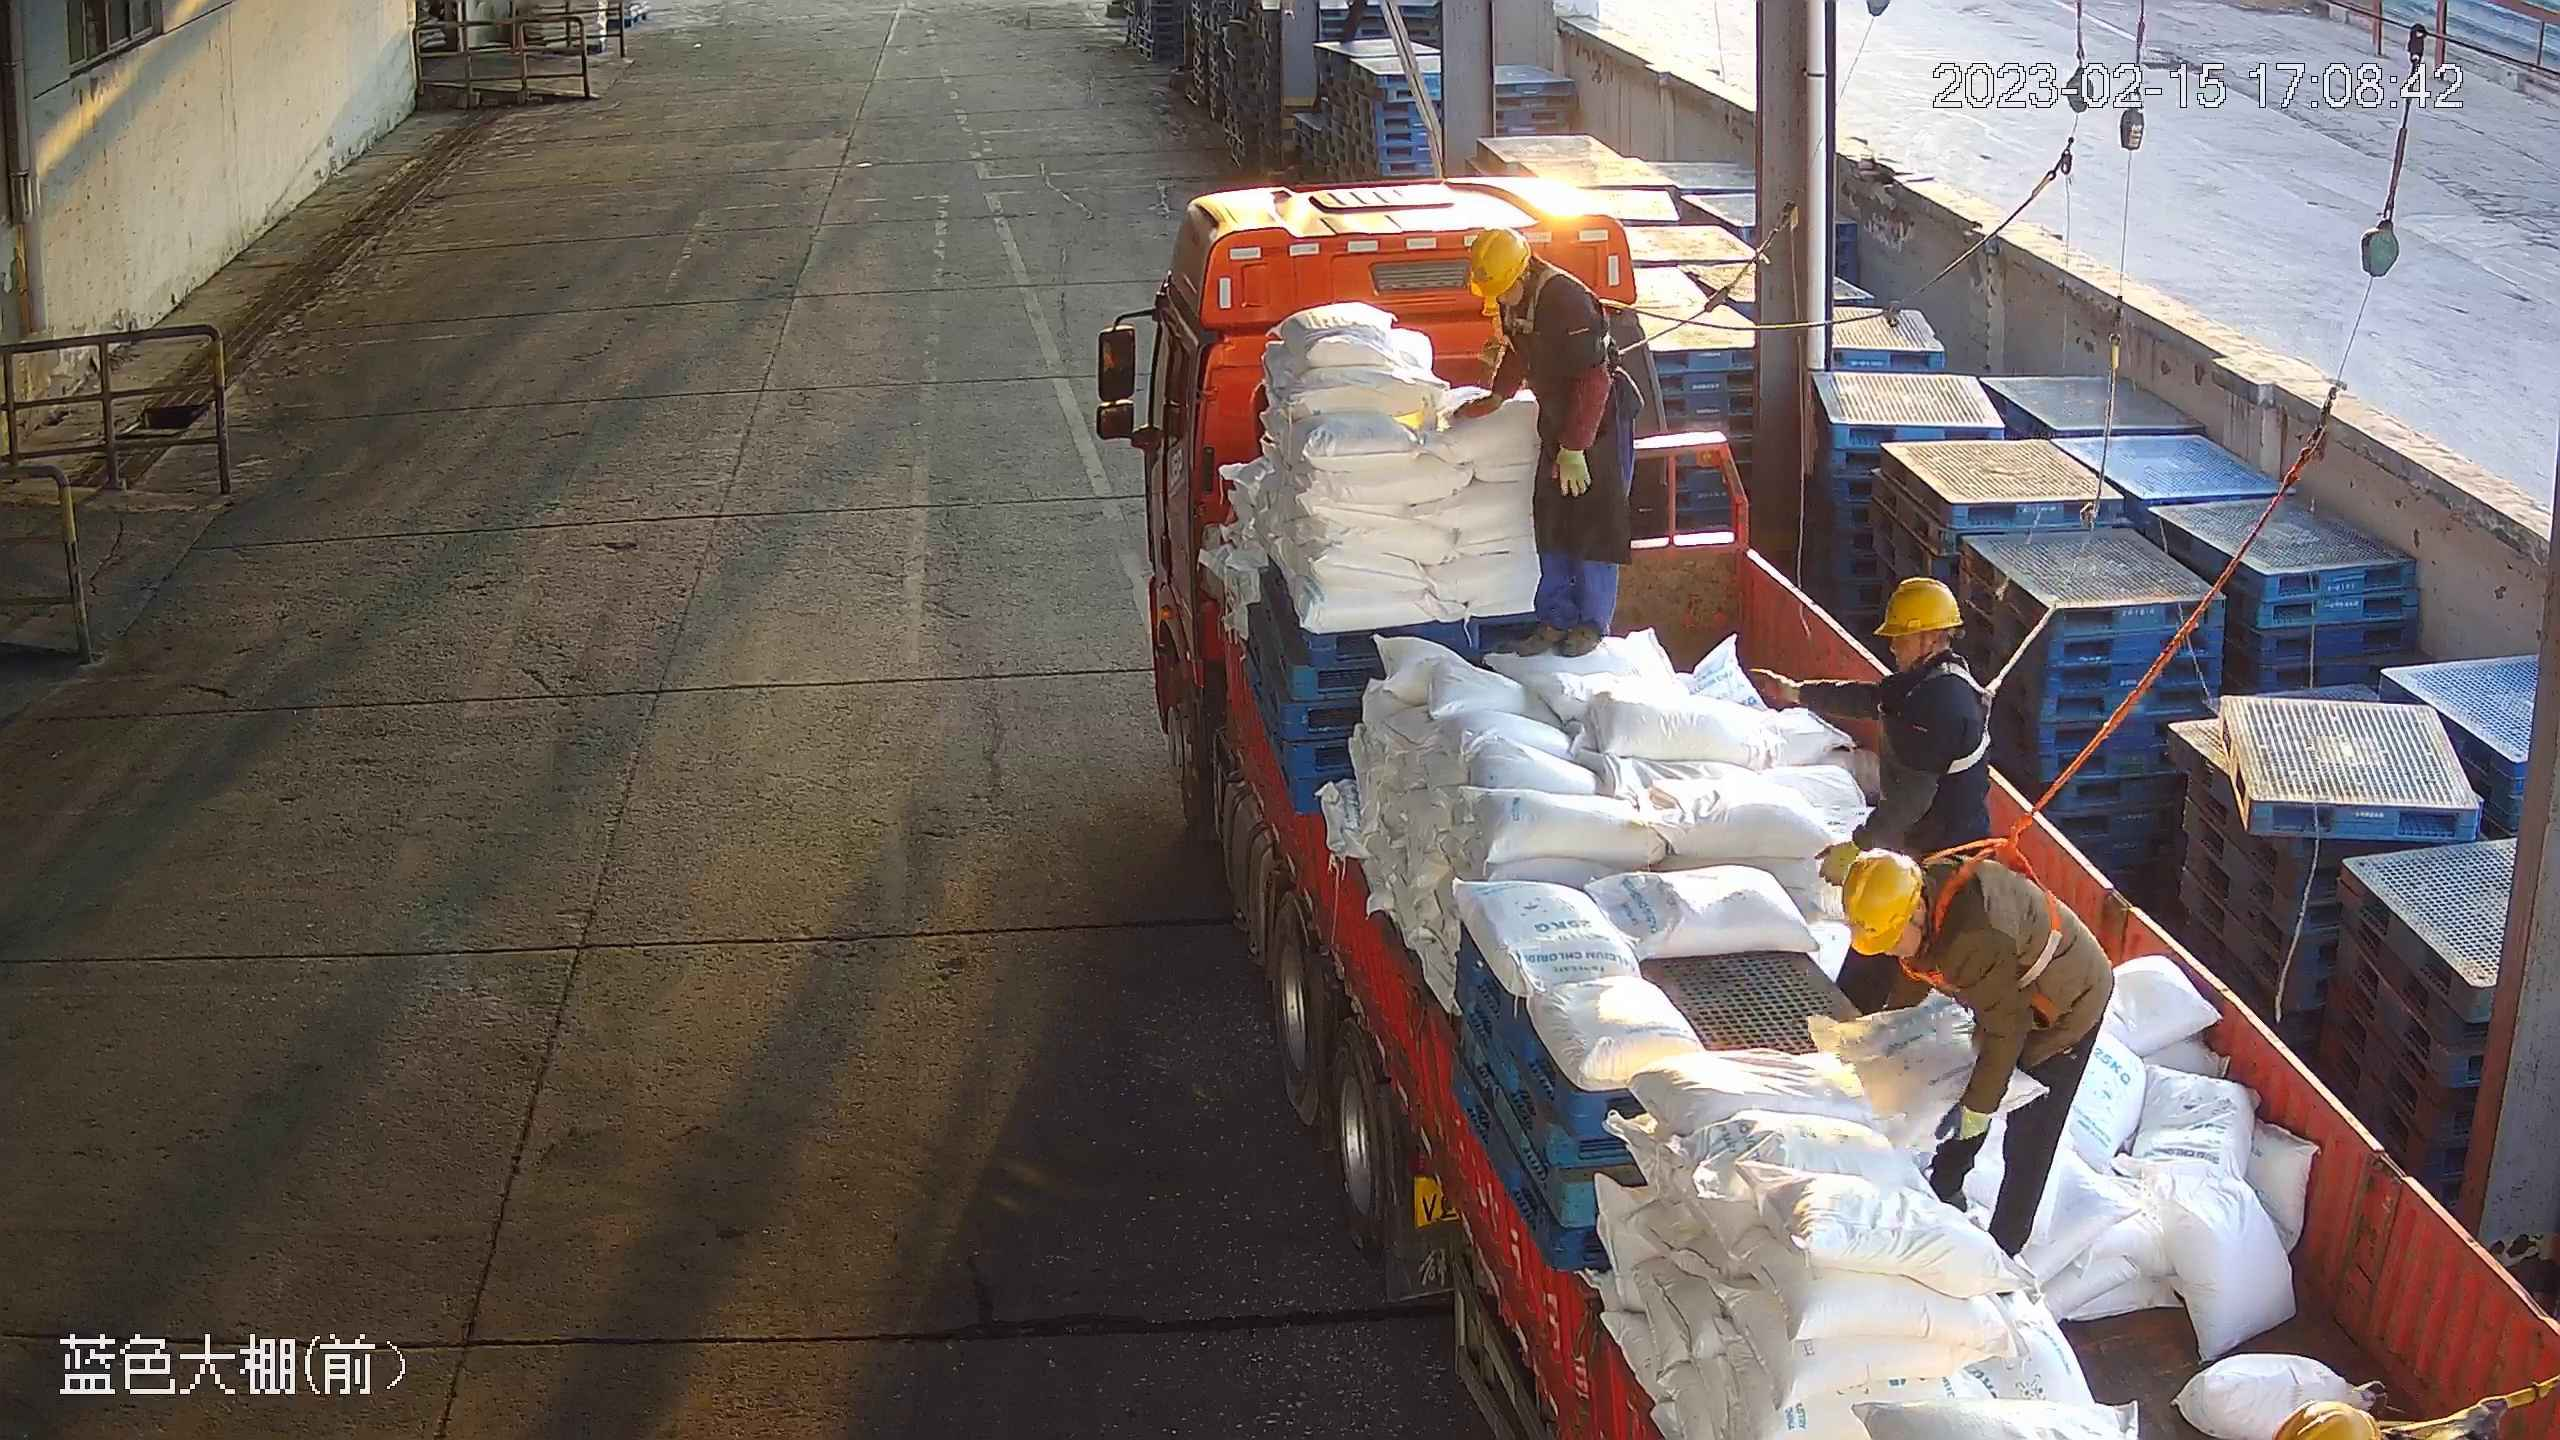belt: (1933, 823, 2058, 990), (1906, 669, 2013, 776), (1511, 279, 1618, 356)
head: (1842, 855, 2013, 993), (1862, 574, 1992, 741), (1463, 230, 1588, 348)
helmet: (1837, 846, 1920, 958), (1870, 578, 1965, 636), (1455, 227, 1530, 299)
people: (1848, 850, 2116, 1274), (1751, 574, 1997, 1030), (1446, 227, 1648, 658)
truck: (1084, 169, 2560, 1440)
